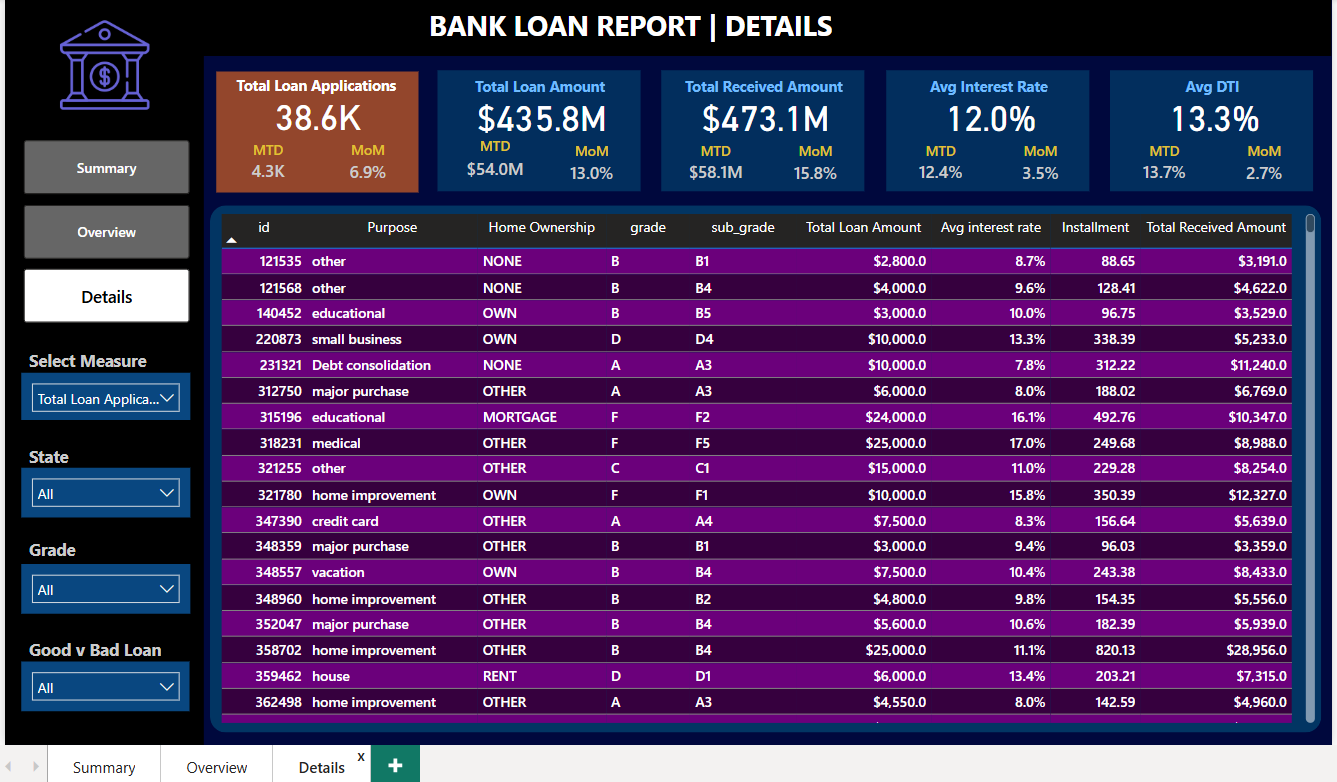

Layout of this report page (visuals, bound fields, positions):
{"tool":"powerbi","page":{"name":"Details","canvas":[1280,720],"ordinal":2},"visuals":[{"type":"shape","box":[0,0,1280,55],"z":0},{"type":"cardVisual","fields":{"Data":["_Measure Table.Total Application"]},"box":[219.3,70.7,165.9,75],"z":0,"group":"g4"},{"type":"cardVisual","fields":{"Data":["_Measure Table.Avg interest rate"]},"box":[868,71.6,165.9,75],"z":0,"group":"g7"},{"type":"cardVisual","fields":{"Data":["_Measure Table.Total recived amount"]},"box":[651.7,71.8,165.9,75],"z":0,"group":"g8"},{"type":"cardVisual","fields":{"Data":["_Measure Table.Avg dti rate"]},"box":[1084.3,71.8,165.9,75],"z":0,"group":"g9"},{"type":"cardVisual","fields":{"Data":["_Measure Table.Total loan amount"]},"box":[435.6,72.1,165.9,75],"z":0,"group":"g10"},{"type":"shape","box":[0,0,191.9,719.9],"z":1000},{"type":"textbox","box":[201.5,69,197.9,31.4],"z":1000,"group":"g4"},{"type":"textbox","box":[850.2,69.9,197.9,31.4],"z":1000,"group":"g7"},{"type":"textbox","box":[633.9,70.1,197.9,31.4],"z":1000,"group":"g8"},{"type":"textbox","box":[1066.5,70.1,197.9,31.4],"z":1000,"group":"g9"},{"type":"textbox","box":[417.8,70.4,197.9,31.4],"z":1000,"group":"g10"},{"type":"textbox","box":[404.2,2.4,470.5,55.5],"z":2000},{"type":"card","title":"MTD","fields":{"Values":["_Measure Table.MTD loan amount"]},"box":[432.5,132.7,82,54.3],"z":2000,"group":"g10"},{"type":"card","title":"MTD","fields":{"Values":["_Measure Table.mtd application"]},"box":[222,136.6,63.9,49.5],"z":2000,"group":"g4"},{"type":"card","title":"MTD","fields":{"Values":["_Measure Table.MTD avg interest rate"]},"box":[870.7,137.5,63.9,49.5],"z":2000,"group":"g7"},{"type":"card","title":"MTD","fields":{"Values":["_Measure Table.MTD recived amount"]},"box":[654.4,137.7,63.9,49.5],"z":2000,"group":"g8"},{"type":"card","title":"MTD","fields":{"Values":["_Measure Table.MTD avg dti rate"]},"box":[1087,137.7,63.9,49.5],"z":2000,"group":"g9"},{"type":"group","id":"g1","title":"Group 3","box":[417.8,69.3,197.9,118.2],"z":3000},{"type":"shape","box":[203.9,70.2,195.4,117],"z":3000,"group":"g11"},{"type":"card","title":"MoM","fields":{"Values":["_Measure Table.MoM applications"]},"box":[318.9,137.1,63.5,49.1],"z":3000,"group":"g4"},{"type":"card","title":"MoM","fields":{"Values":["_Measure Table.Mom Avg interest rate"]},"box":[967.6,138,63.5,49.1],"z":3000,"group":"g7"},{"type":"card","title":"MoM","fields":{"Values":["_Measure Table.MoM recived amount"]},"box":[751.3,138.2,63.5,49.1],"z":3000,"group":"g8"},{"type":"card","title":"MoM","fields":{"Values":["_Measure Table.MoM avg dti rate"]},"box":[1183.9,138.2,63.5,49.1],"z":3000,"group":"g9"},{"type":"card","title":"MoM","fields":{"Values":["_Measure Table.MoM loan amount"]},"box":[535.2,138.5,63.5,49.1],"z":3000,"group":"g10"},{"type":"group","id":"g2","title":"Group 1","box":[201.5,69,197.9,117.1],"z":4000,"group":"g11"},{"type":"group","id":"g3","title":"Group 3","box":[633.9,69,197.9,118.2],"z":4000},{"type":"group","id":"g4","title":"Group 2","box":[201.5,69,197.9,117.1],"z":4005,"group":"g2"},{"type":"group","id":"g5","title":"Group 3","box":[850.2,68.8,197.9,118.2],"z":5000},{"type":"shape","box":[850.2,68.8,196.2,116.9],"z":5000,"group":"g5"},{"type":"shape","box":[633.9,69,196.2,116.9],"z":5000,"group":"g3"},{"type":"shape","box":[1066.5,69,196.2,116.9],"z":5000,"group":"g6"},{"type":"shape","box":[417.8,69.3,196.2,116.9],"z":5000,"group":"g1"},{"type":"group","id":"g6","title":"Group 3","box":[1066.5,69,197.9,118.2],"z":6000},{"type":"group","id":"g7","title":"Group 2","box":[850.2,69.9,197.7,116.9],"z":6000,"group":"g5"},{"type":"group","id":"g8","title":"Group 2","box":[633.9,70.1,197.7,116.9],"z":6000,"group":"g3"},{"type":"group","id":"g9","title":"Group 2","box":[1066.5,70.1,197.7,116.9],"z":6000,"group":"g6"},{"type":"group","id":"g10","title":"Group 2","box":[417.8,70.4,197.9,117.1],"z":6000,"group":"g1"},{"type":"group","id":"g11","title":"Group 4","box":[201.5,69,197.9,118.2],"z":7000},{"type":"shape","box":[197.9,199.1,1072.5,509.1],"z":8000},{"type":"textbox","box":[18.1,425.9,66.4,33.8],"z":10000},{"type":"textbox","box":[18.1,515.2,66.4,33.8],"z":12000},{"type":"textbox","box":[18.1,611.7,160.5,33.8],"z":14000},{"type":"textbox","box":[18.1,333,142.4,35],"z":16000},{"type":"tableEx","fields":{"Values":["Sum(bank_loan_data.id)","bank_loan_data.purpose","bank_loan_data.home_ownership","bank_loan_data.grade","bank_loan_data.sub_grade","_Measure Table.Total Loan Amount","_Measure Table.Avg interest rate","Sum(bank_loan_data.installment)","_Measure Table.Total Received Amount"]},"box":[202.7,202.7,1066.5,500.7],"z":17000},{"type":"slicer","fields":{"Values":["bank_loan_data.address_state"]},"box":[15.7,451.9,162.9,48.3],"z":17001},{"type":"slicer","fields":{"Values":["bank_loan_data.grade"]},"box":[15.7,545.6,162.9,48.3],"z":17002},{"type":"slicer","fields":{"Values":["bank_loan_data.good - bad loan"]},"box":[15.7,639.2,162.8,47.7],"z":17003},{"type":"slicer","fields":{"Values":["Select Measure.Select Measure"]},"box":[15.7,360.7,162.9,45.8],"z":17004},{"type":"image","box":[48.3,13.3,96.5,100.1],"z":17005},{"type":"pageNavigator","box":[18.1,136.3,160.5,176.1],"z":17006}]}

Visuals, with their boxes on the page's 1280x720 design canvas (x1, y1, x2, y2). These are canvas units, not pixel positions in the 1337x782 screenshot, which may show the page scaled, cropped or inside an application window:
shape: {"x1": 0, "y1": 0, "x2": 1280, "y2": 55}
cardVisual - _Measure Table.Total Application: {"x1": 219, "y1": 71, "x2": 385, "y2": 146}
cardVisual - _Measure Table.Avg interest rate: {"x1": 868, "y1": 72, "x2": 1034, "y2": 147}
cardVisual - _Measure Table.Total recived amount: {"x1": 652, "y1": 72, "x2": 818, "y2": 147}
cardVisual - _Measure Table.Avg dti rate: {"x1": 1084, "y1": 72, "x2": 1250, "y2": 147}
cardVisual - _Measure Table.Total loan amount: {"x1": 436, "y1": 72, "x2": 602, "y2": 147}
shape: {"x1": 0, "y1": 0, "x2": 192, "y2": 720}
textbox: {"x1": 202, "y1": 69, "x2": 399, "y2": 100}
textbox: {"x1": 850, "y1": 70, "x2": 1048, "y2": 101}
textbox: {"x1": 634, "y1": 70, "x2": 832, "y2": 102}
textbox: {"x1": 1066, "y1": 70, "x2": 1264, "y2": 102}
textbox: {"x1": 418, "y1": 70, "x2": 616, "y2": 102}
textbox: {"x1": 404, "y1": 2, "x2": 875, "y2": 58}
"MTD" card: {"x1": 432, "y1": 133, "x2": 514, "y2": 187}
"MTD" card: {"x1": 222, "y1": 137, "x2": 286, "y2": 186}
"MTD" card: {"x1": 871, "y1": 138, "x2": 935, "y2": 187}
"MTD" card: {"x1": 654, "y1": 138, "x2": 718, "y2": 187}
"MTD" card: {"x1": 1087, "y1": 138, "x2": 1151, "y2": 187}
"Group 3" group: {"x1": 418, "y1": 69, "x2": 616, "y2": 188}
shape: {"x1": 204, "y1": 70, "x2": 399, "y2": 187}
"MoM" card: {"x1": 319, "y1": 137, "x2": 382, "y2": 186}
"MoM" card: {"x1": 968, "y1": 138, "x2": 1031, "y2": 187}
"MoM" card: {"x1": 751, "y1": 138, "x2": 815, "y2": 187}
"MoM" card: {"x1": 1184, "y1": 138, "x2": 1247, "y2": 187}
"MoM" card: {"x1": 535, "y1": 138, "x2": 599, "y2": 188}
"Group 1" group: {"x1": 202, "y1": 69, "x2": 399, "y2": 186}
"Group 3" group: {"x1": 634, "y1": 69, "x2": 832, "y2": 187}
"Group 2" group: {"x1": 202, "y1": 69, "x2": 399, "y2": 186}
"Group 3" group: {"x1": 850, "y1": 69, "x2": 1048, "y2": 187}
shape: {"x1": 850, "y1": 69, "x2": 1046, "y2": 186}
shape: {"x1": 634, "y1": 69, "x2": 830, "y2": 186}
shape: {"x1": 1066, "y1": 69, "x2": 1263, "y2": 186}
shape: {"x1": 418, "y1": 69, "x2": 614, "y2": 186}
"Group 3" group: {"x1": 1066, "y1": 69, "x2": 1264, "y2": 187}
"Group 2" group: {"x1": 850, "y1": 70, "x2": 1048, "y2": 187}
"Group 2" group: {"x1": 634, "y1": 70, "x2": 832, "y2": 187}
"Group 2" group: {"x1": 1066, "y1": 70, "x2": 1264, "y2": 187}
"Group 2" group: {"x1": 418, "y1": 70, "x2": 616, "y2": 188}
"Group 4" group: {"x1": 202, "y1": 69, "x2": 399, "y2": 187}
shape: {"x1": 198, "y1": 199, "x2": 1270, "y2": 708}
textbox: {"x1": 18, "y1": 426, "x2": 84, "y2": 460}
textbox: {"x1": 18, "y1": 515, "x2": 84, "y2": 549}
textbox: {"x1": 18, "y1": 612, "x2": 179, "y2": 646}
textbox: {"x1": 18, "y1": 333, "x2": 160, "y2": 368}
tableEx - Sum(bank_loan_data.id) x bank_loan_data.purpose: {"x1": 203, "y1": 203, "x2": 1269, "y2": 703}
slicer - bank_loan_data.address_state: {"x1": 16, "y1": 452, "x2": 179, "y2": 500}
slicer - bank_loan_data.grade: {"x1": 16, "y1": 546, "x2": 179, "y2": 594}
slicer - bank_loan_data.good - bad loan: {"x1": 16, "y1": 639, "x2": 178, "y2": 687}
slicer - Select Measure.Select Measure: {"x1": 16, "y1": 361, "x2": 179, "y2": 406}
image: {"x1": 48, "y1": 13, "x2": 145, "y2": 113}
pageNavigator: {"x1": 18, "y1": 136, "x2": 179, "y2": 312}
